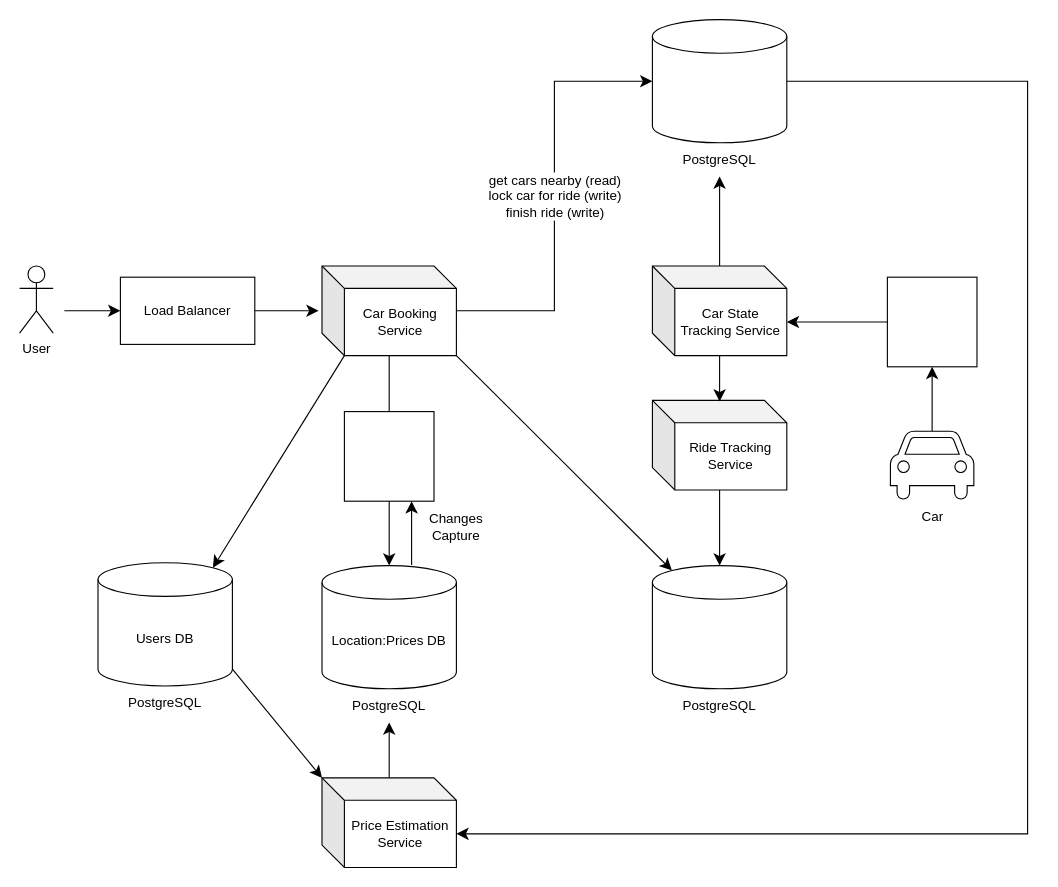
This 1058x887 diagram has some shape labels left out. Each missing label, with the box of its shape:
Car sensors: (886, 276, 977, 367)
Cars DB: (651, 18, 787, 143)
Prices Cache (Redis): (343, 410, 434, 501)
Rides DB: (651, 564, 787, 689)
